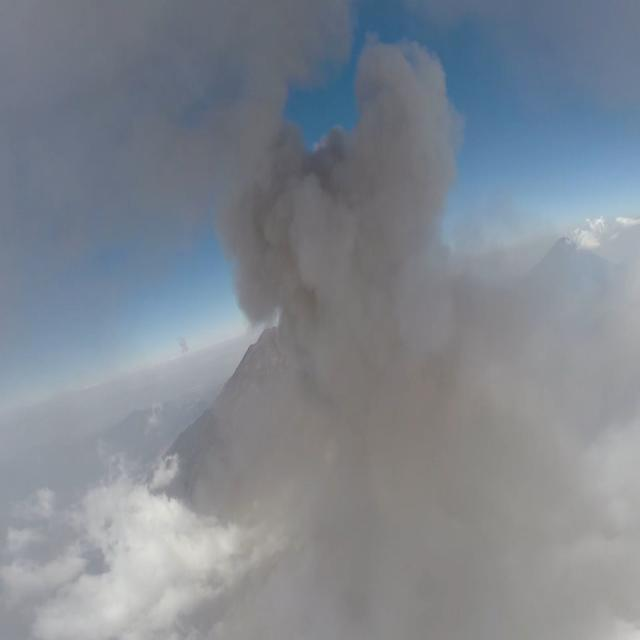Plume: (278, 206, 638, 640), (218, 38, 449, 368)
